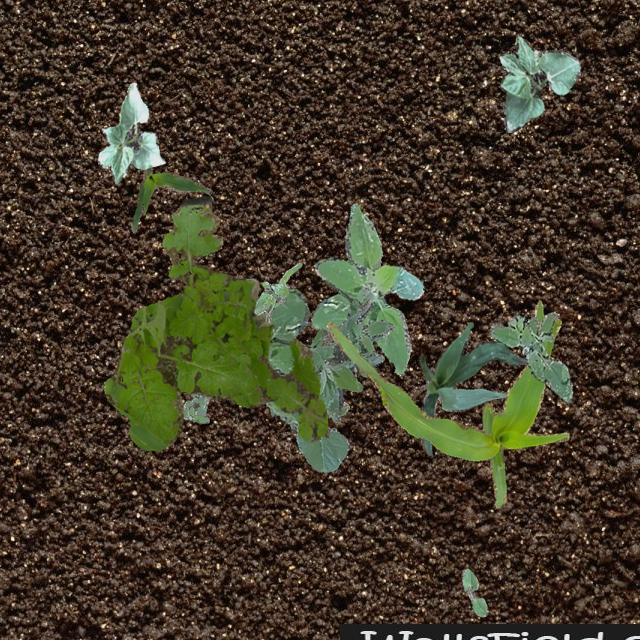crop: (326, 298, 568, 508), (418, 322, 526, 456), (498, 32, 580, 132), (98, 82, 164, 184), (130, 166, 212, 232), (294, 402, 348, 472), (460, 568, 488, 616)
weed: (104, 196, 328, 450), (310, 202, 422, 372), (270, 298, 392, 422), (264, 288, 320, 432), (489, 310, 572, 402), (253, 262, 300, 322), (182, 392, 208, 422)
